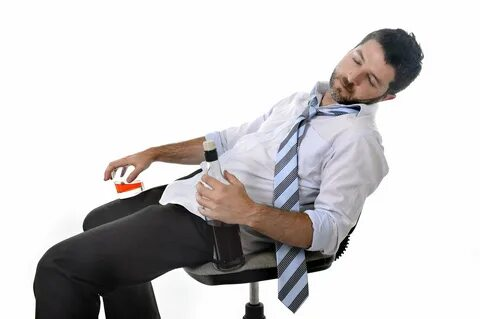sleep: (66, 27, 424, 283)
